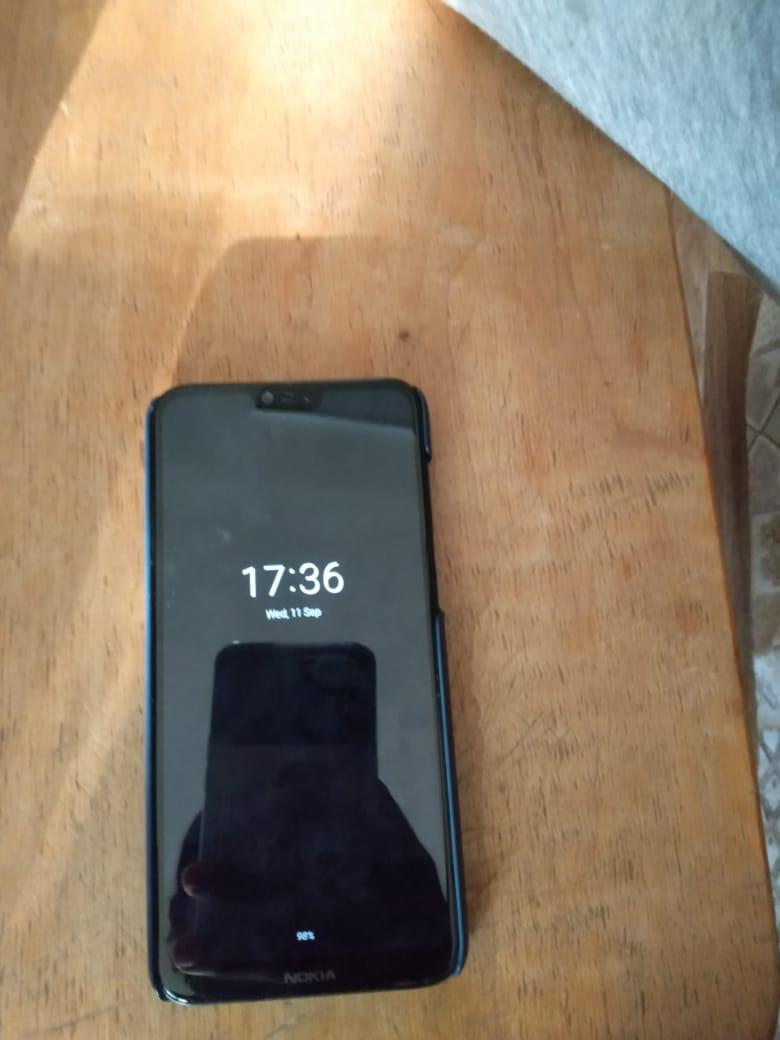Phone: (104, 357, 495, 1021)
